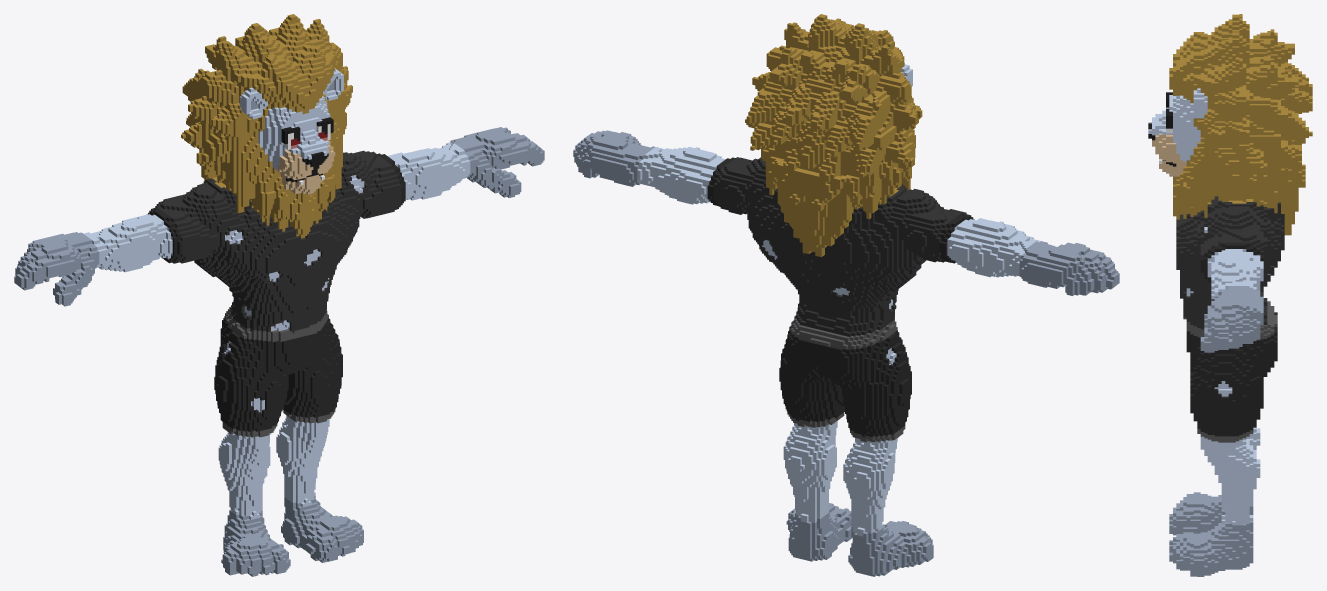
File: 668-B2hE4nRg.fbx
3 renders of one model, left to right at view 1: azimuth 30°, elevation 25°; view 2: azimuth 150°, elevation 25°; view 3: azimuth 270°, elevation 25°, orthographic. The views are drawn at different scales.
Parts seen in each view (by area): view 1: standard; view 2: standard; view 3: standard.
Boxes of the visible parts, box(x1,y1,x2,y2) form: standard: box(14, 14, 544, 576); standard: box(573, 14, 1119, 576); standard: box(1148, 14, 1312, 576).
Bounding box in the file's own units: 17.2 × 16.5 × 4.7.
5 materials, 5 textured.
